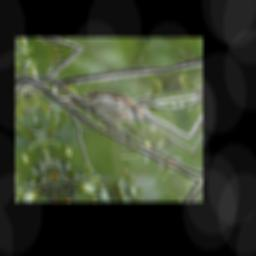Cuckoo: (59, 85, 147, 132)
